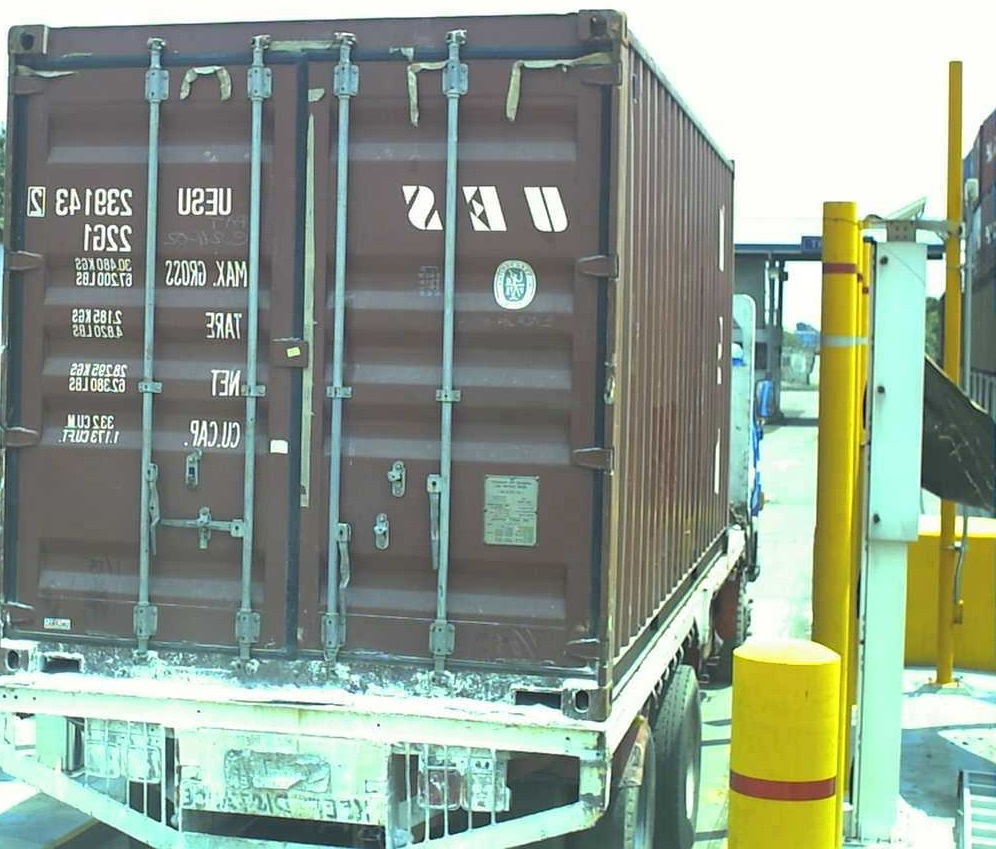container_door: (2, 21, 618, 727)
